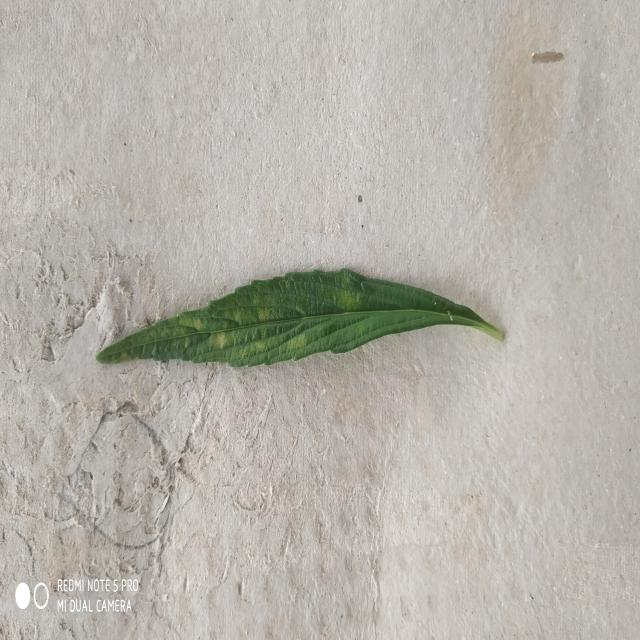defectedthambe: (166, 273, 310, 364)
thambe: (96, 269, 502, 367)
